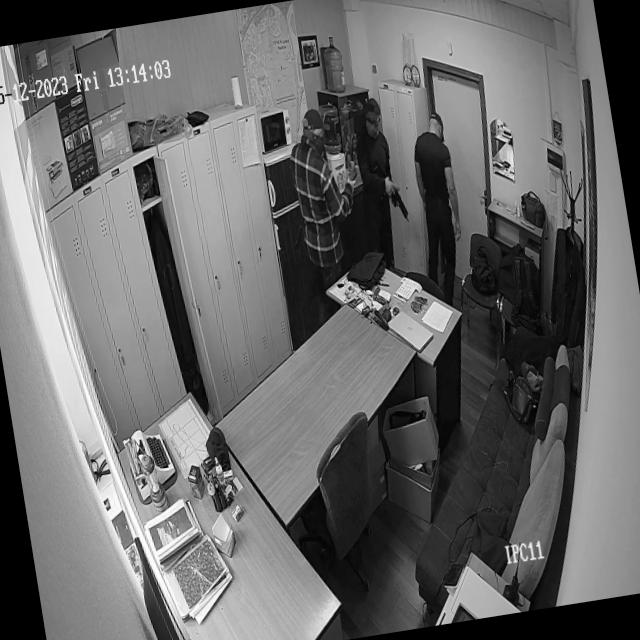gun: (388, 180, 410, 225)
person: (286, 104, 374, 275), (409, 113, 473, 300)
person with a gun: (348, 99, 406, 266)
